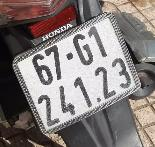1: (84, 21, 114, 62), (69, 73, 99, 113)
2: (33, 89, 66, 131), (90, 62, 120, 102)
3: (108, 54, 138, 92)
4: (52, 81, 80, 122)
6: (28, 50, 56, 90)
7: (42, 42, 71, 83)
G: (68, 29, 98, 70)
